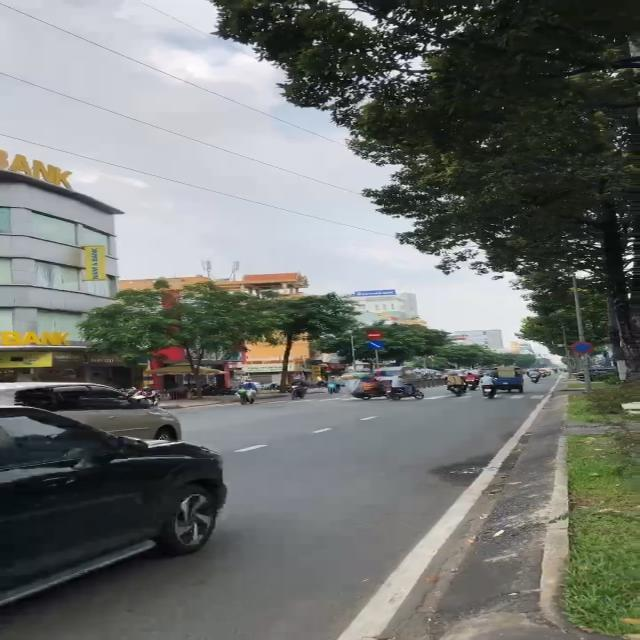Bien bao cam di nguoc chieu: (365, 331, 384, 340)
Bien bao huong phai di vong chuong ngai vat: (367, 341, 387, 350)
